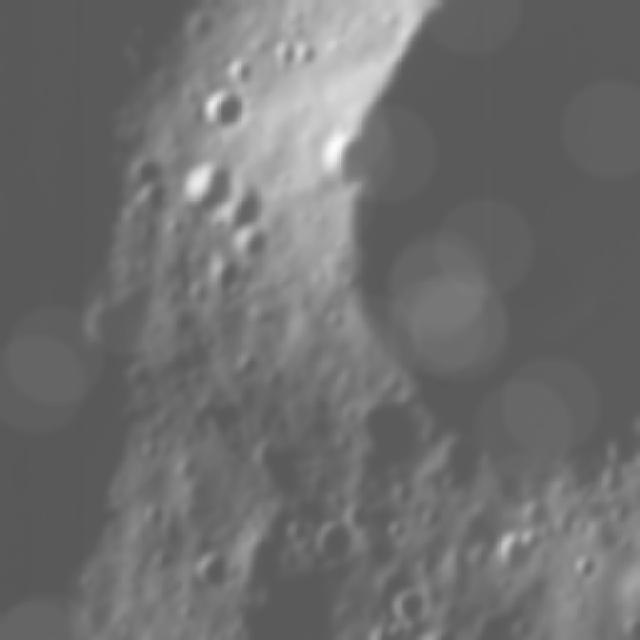crater: (490, 530, 541, 573), (310, 522, 359, 566), (186, 546, 226, 596), (182, 170, 233, 208), (200, 91, 245, 134), (378, 588, 428, 626), (278, 522, 308, 548), (572, 552, 597, 582)
